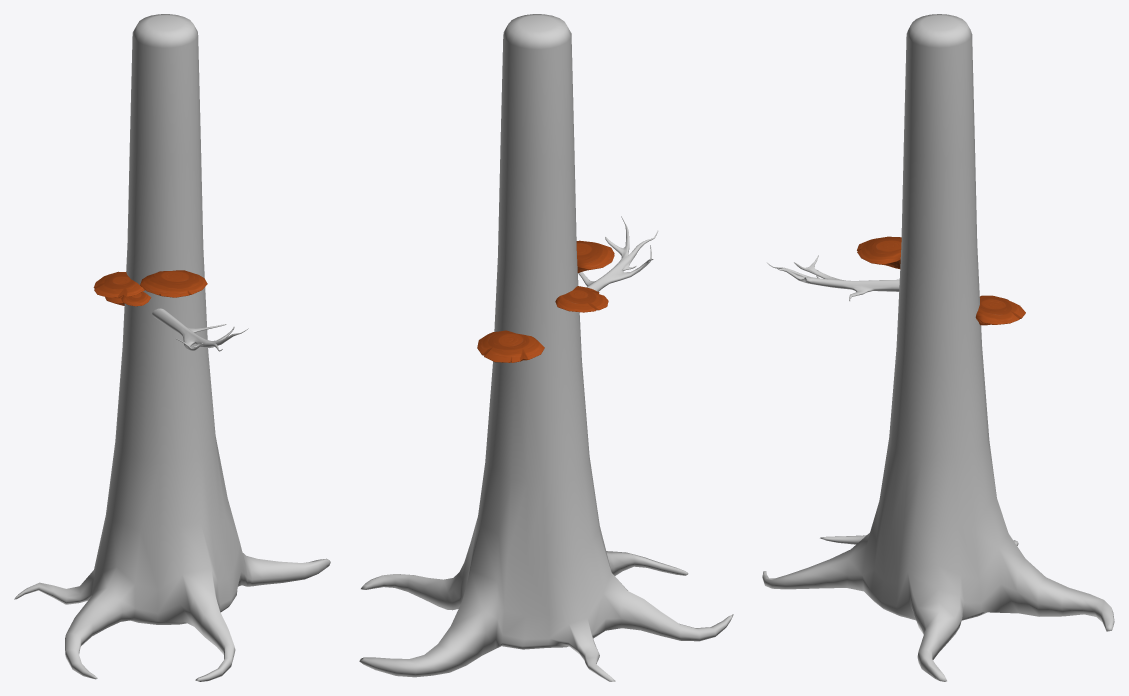
The model's file is tree mushrome jump.fbx.
The picture shows the model from 3 angles, left to right: view 1: azimuth 30°, elevation 25°; view 2: azimuth 150°, elevation 25°; view 3: azimuth 270°, elevation 25°; orthographic projection. The views are drawn at different scales.
Parts seen in each view (by area): view 1: pCylinder16, pCylinder17, pCube38, pCylinder19; view 2: pCylinder16, pCylinder20, pCube38, pCylinder19, pCylinder17; view 3: pCylinder16, pCube38, pCylinder20, pCylinder17.
Part boxes in pixels (x1,y1,x2,y2): pCylinder16: [14, 14, 330, 681]; pCylinder17: [140, 270, 207, 297]; pCube38: [152, 308, 248, 351]; pCylinder19: [93, 271, 144, 297]; pCylinder16: [359, 14, 733, 681]; pCylinder20: [477, 330, 544, 362]; pCube38: [578, 216, 658, 291]; pCylinder19: [555, 286, 608, 312]; pCylinder17: [576, 240, 614, 272]; pCylinder16: [762, 14, 1114, 681]; pCube38: [767, 255, 899, 301]; pCylinder20: [975, 295, 1025, 325]; pCylinder17: [857, 236, 901, 268].
Size of the model in its own units: 1464 by 2752 by 1506.
